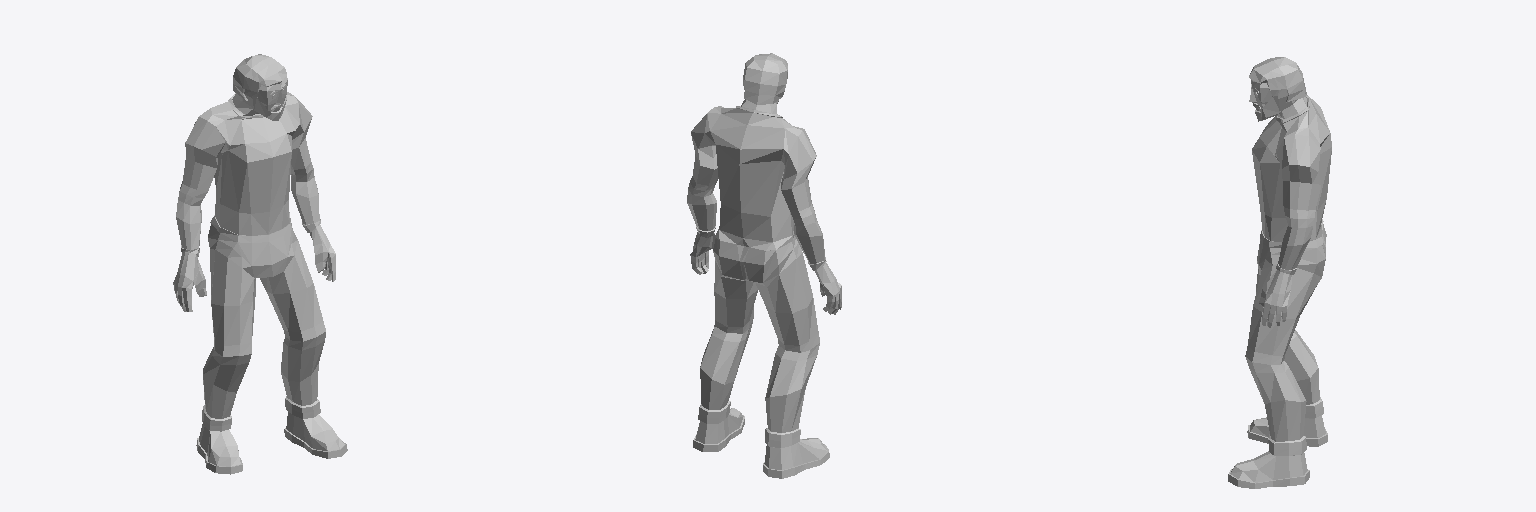
Rendered from ManPosingFinal.obj.
The picture shows the model from 3 angles: view 1: azimuth 30°, elevation 25°; view 2: azimuth 150°, elevation 25°; view 3: azimuth 270°, elevation 25°; orthographic projection.
Visible parts, largest first — view 1: lowPolyCharacterFace_EXP; view 2: lowPolyCharacterFace_EXP; view 3: lowPolyCharacterFace_EXP.
Boxes of the visible parts, <box> form: lowPolyCharacterFace_EXP: <box>173,54,347,474</box>; lowPolyCharacterFace_EXP: <box>687,53,841,478</box>; lowPolyCharacterFace_EXP: <box>1228,57,1331,488</box>.
Size of the model in its own units: 0.7228 by 1.82 by 0.4347.